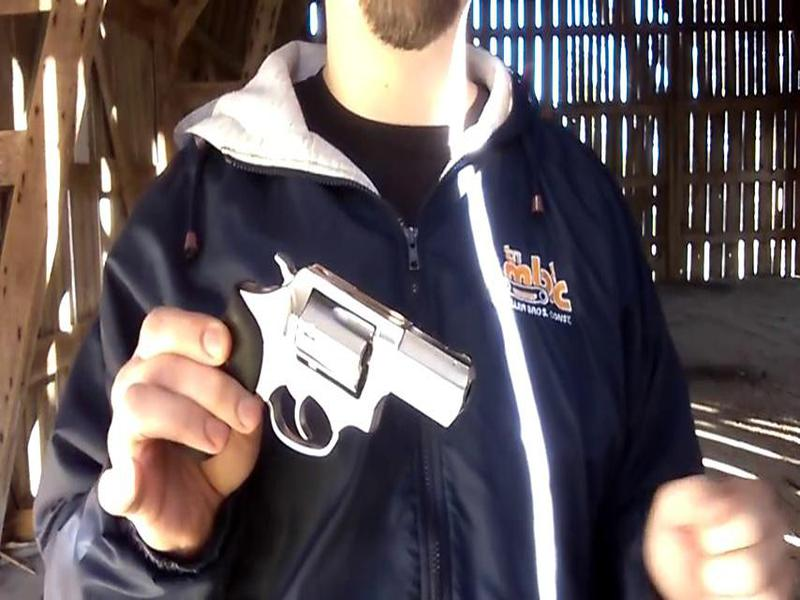Revolver: (216, 244, 482, 480)
